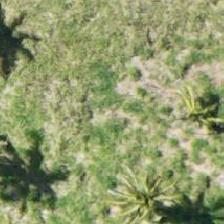coconut_tree: (131, 65, 221, 155), (74, 155, 164, 223)
